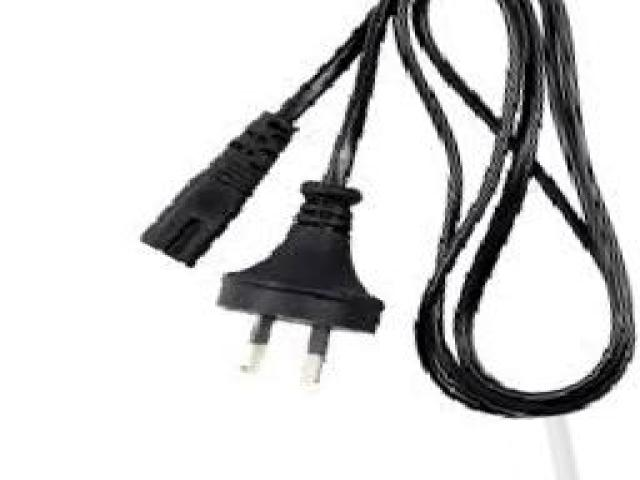wire: (141, 0, 635, 417)
